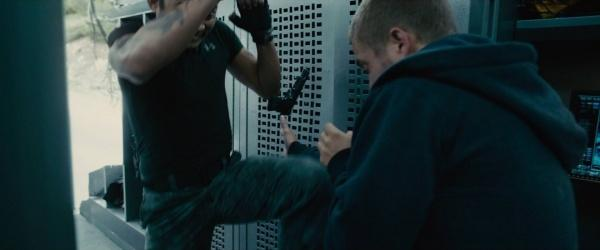Gun: (267, 67, 310, 117)
